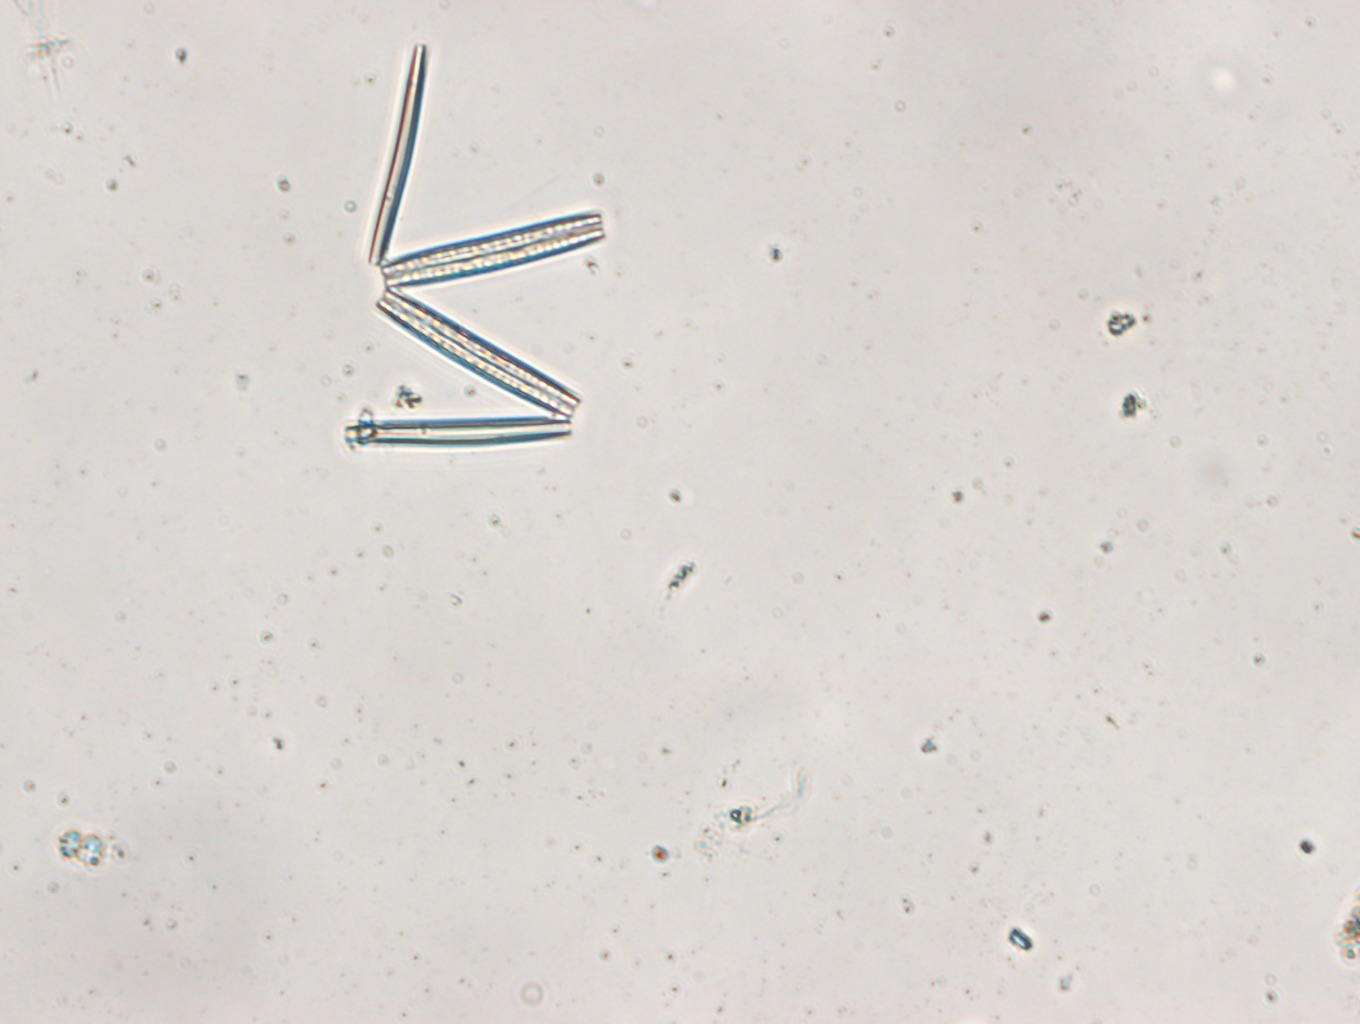thalassionema nitzschioides: (341, 41, 609, 443)
